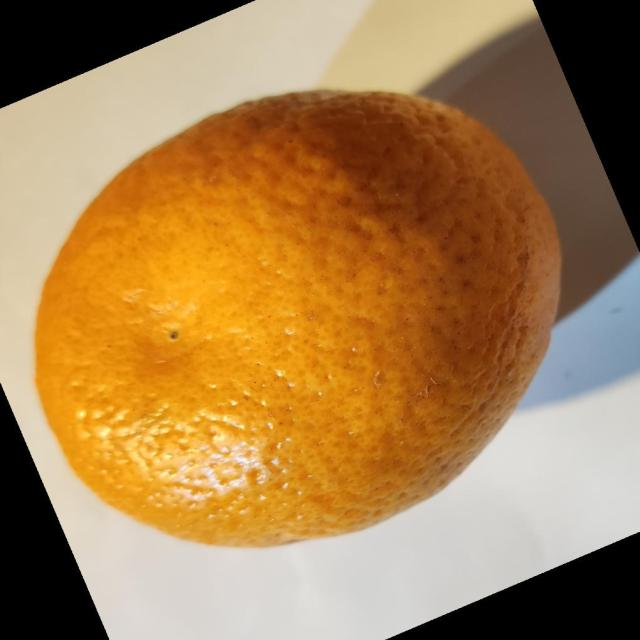fresh orange: (32, 86, 562, 548)
